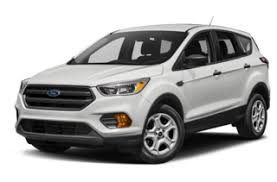Ford: (17, 24, 270, 160)
